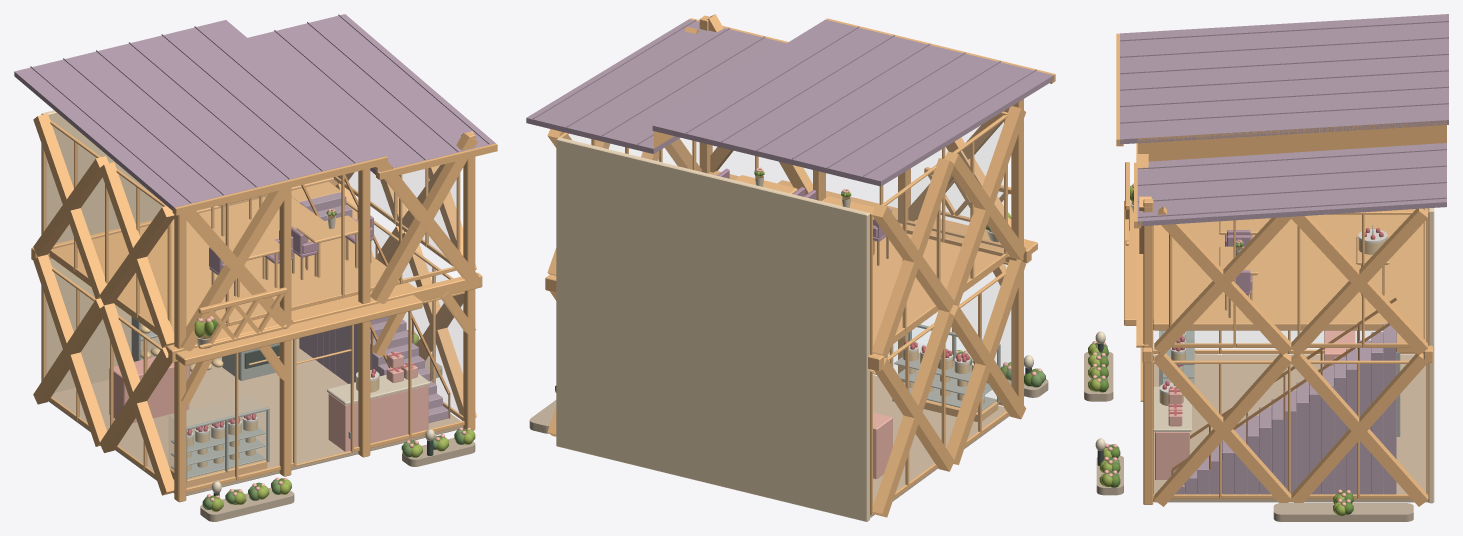
3 views of the same model, side by side, from view 1: azimuth 30°, elevation 25°; view 2: azimuth 150°, elevation 25°; view 3: azimuth 270°, elevation 25° (orthographic). The views are drawn at different scales.
Visible parts, largest first — view 1: R 左高紫灰屋面, A 外露交叉木架, R 右低紫灰屋面, S 二层楼面, A 木立柱, S 一层楼面, A 前交叉木架, A 实体后墙, S 梯级, I 装饰柜, S 前挑露台, R 立缝 (+26 smaller); view 2: A 实体后墙, R 左高紫灰屋面, A 外露交叉木架, R 右低紫灰屋面, S 二层楼面, A 木立柱, R 立缝, S 一层楼面, A 上层侧玻璃, A 前交叉木架, A 侧立面玻璃, I 展柜托盘 (+7 smaller); view 3: R 左高紫灰屋面, A 外露交叉木架, R 右低紫灰屋面, S 二层楼面, S 梯级, S 一层楼面, R 高低屋面封边, R 立缝, A 侧立面玻璃, L 局部花池, A 木立柱, A 上层侧玻璃 (+17 smaller).
Part boxes in pixels (x1=…): R 左高紫灰屋面: x1=14, y1=20, x2=385, y2=211; A 外露交叉木架: x1=33, y1=113, x2=476, y2=495; R 右低紫灰屋面: x1=248, y1=14, x2=495, y2=174; S 二层楼面: x1=49, y1=197, x2=415, y2=335; A 木立柱: x1=174, y1=132, x2=475, y2=502; S 一层楼面: x1=48, y1=338, x2=463, y2=495; A 前交叉木架: x1=180, y1=133, x2=478, y2=351; A 实体后墙: x1=41, y1=110, x2=162, y2=392; S 梯级: x1=299, y1=192, x2=448, y2=422; I 装饰柜: x1=328, y1=385, x2=428, y2=451; S 前挑露台: x1=165, y1=295, x2=422, y2=365; R 立缝: x1=30, y1=14, x2=489, y2=203; A 实体后墙: x1=556, y1=137, x2=869, y2=521; R 左高紫灰屋面: x1=652, y1=19, x2=1053, y2=186; A 外露交叉木架: x1=547, y1=26, x2=1026, y2=517; R 右低紫灰屋面: x1=526, y1=19, x2=786, y2=153; S 二层楼面: x1=873, y1=223, x2=1005, y2=346; A 木立柱: x1=699, y1=15, x2=1023, y2=404; R 立缝: x1=533, y1=19, x2=1036, y2=176; S 一层楼面: x1=870, y1=375, x2=1009, y2=517; A 上层侧玻璃: x1=557, y1=115, x2=1007, y2=354; A 前交叉木架: x1=707, y1=14, x2=1024, y2=241; A 侧立面玻璃: x1=870, y1=270, x2=1008, y2=515; I 展柜托盘: x1=894, y1=352, x2=996, y2=412; R 左高紫灰屋面: x1=1120, y1=14, x2=1448, y2=144; A 外露交叉木架: x1=1154, y1=206, x2=1428, y2=506; R 右低紫灰屋面: x1=1137, y1=143, x2=1446, y2=226; S 二层楼面: x1=1153, y1=208, x2=1423, y2=330; S 梯级: x1=1173, y1=323, x2=1396, y2=494; S 一层楼面: x1=1153, y1=355, x2=1428, y2=502; R 高低屋面封边: x1=1137, y1=120, x2=1446, y2=161; R 立缝: x1=1120, y1=20, x2=1448, y2=217; A 侧立面玻璃: x1=1153, y1=330, x2=1428, y2=498; L 局部花池: x1=1084, y1=352, x2=1413, y2=521; A 木立柱: x1=1143, y1=199, x2=1153, y2=504; A 上层侧玻璃: x1=1169, y1=211, x2=1428, y2=347.
Bounding box in the file's own units: 21.43 × 19.08 × 18.75.
